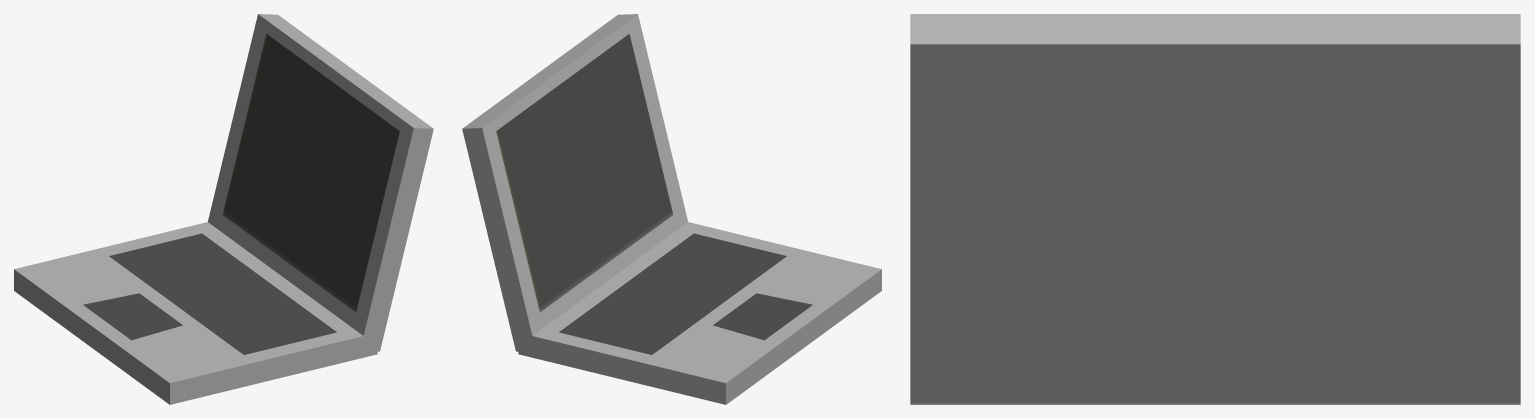
The model's file is laptop.fbx.
3 views of the same model, side by side, from view 1: azimuth 30°, elevation 25°; view 2: azimuth 150°, elevation 25°; view 3: azimuth 270°, elevation 25° (orthographic). The views are drawn at different scales.
Visible parts, largest first — view 1: Würfel_1, Würfel; view 2: Würfel_1, Würfel; view 3: Würfel_1, Würfel.
Part boxes in pixels (x1=…): Würfel_1: x1=208, y1=14, x2=433, y2=351; Würfel: x1=14, y1=222, x2=377, y2=404; Würfel_1: x1=462, y1=14, x2=687, y2=351; Würfel: x1=518, y1=222, x2=881, y2=404; Würfel_1: x1=910, y1=14, x2=1520, y2=403; Würfel: x1=910, y1=403, x2=1520, y2=404.
Size of the model in its own units: 63.57 by 50.05 by 65.
